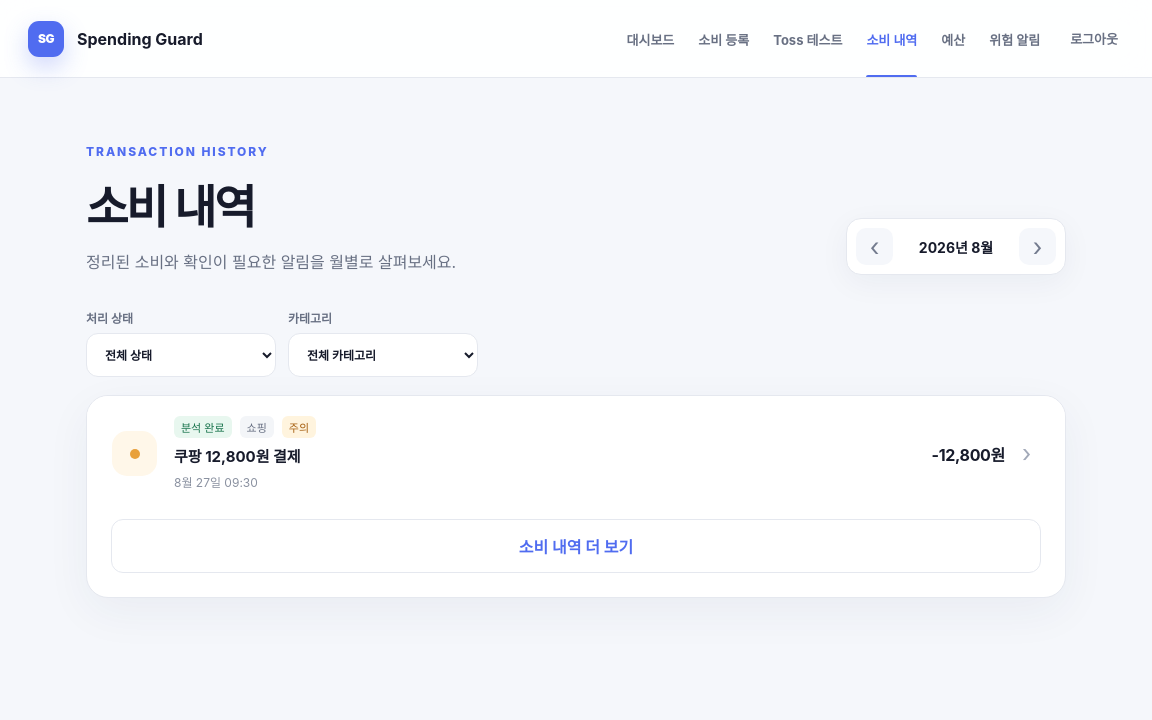
it: TransactionHistoryView › appends the next cursor page without replacing current items
Expected: the text "쿠팡 12,800원 결제" is shown, top-left (174, 447), bottom-right (301, 466)
Step 1. Click the button "소비 내역 더 보기" → (576, 546), box top-left (111, 519), bottom-right (1041, 573)
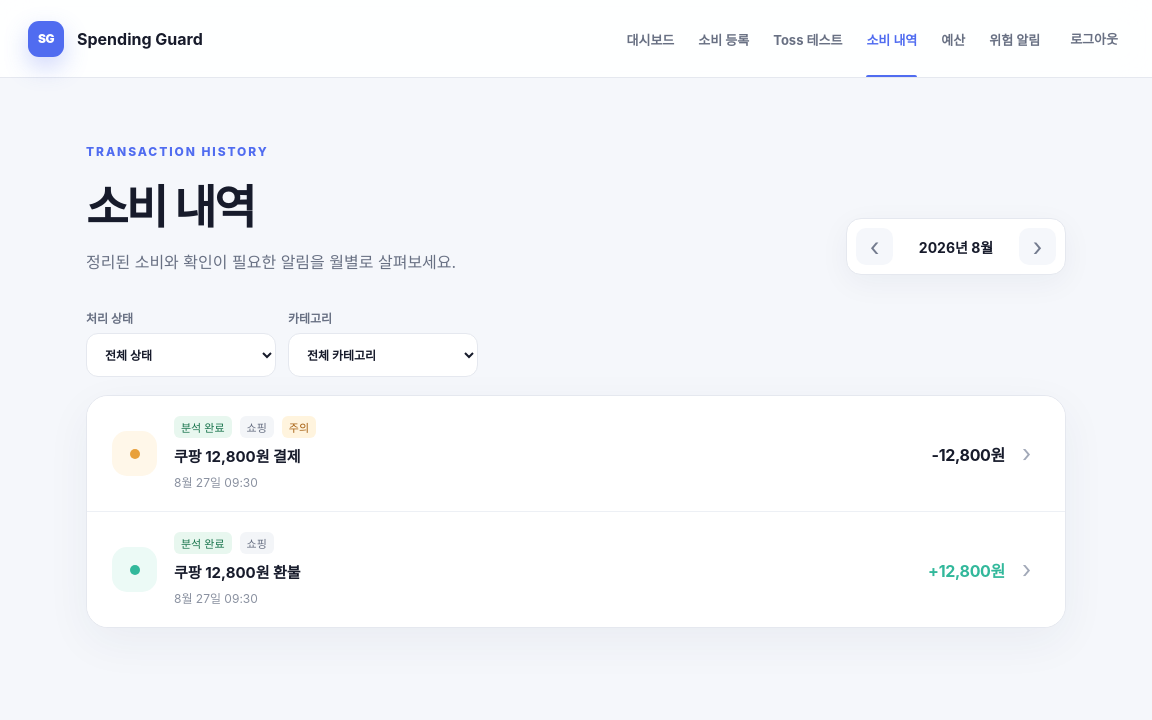
Expected: the text "쿠팡 12,800원 결제" is shown, top-left (174, 447), bottom-right (301, 466)
Expected: the text "쿠팡 12,800원 환불" is shown, top-left (174, 563), bottom-right (301, 582)
